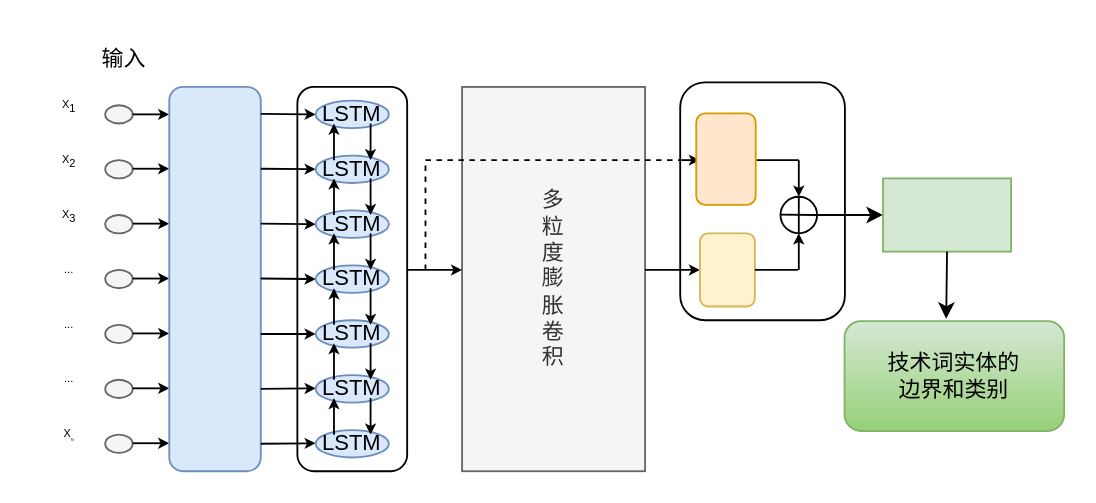
The diagram is 1096 pixels wide and 503 high, and some of its shapes have lost their labels. The centre of each missing label's shape, as x and y in pixels:
Biaffine: (x=725, y=158)
MLP: (x=726, y=269)
解码器: (x=946, y=214)
预训练 语言 模型: (x=214, y=278)
